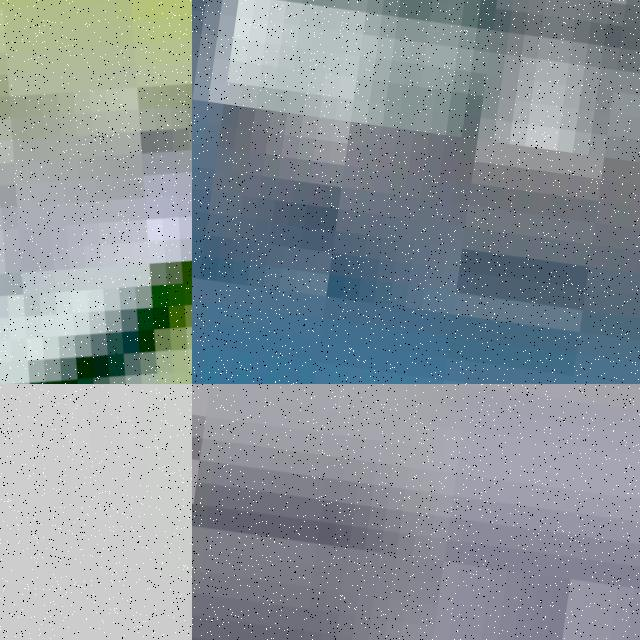drone: (0, 0, 192, 384), (0, 384, 192, 640)
